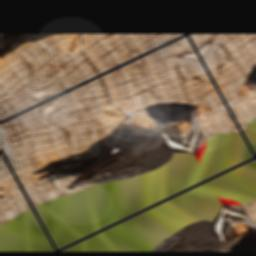Woodpecker: (20, 78, 220, 229)
